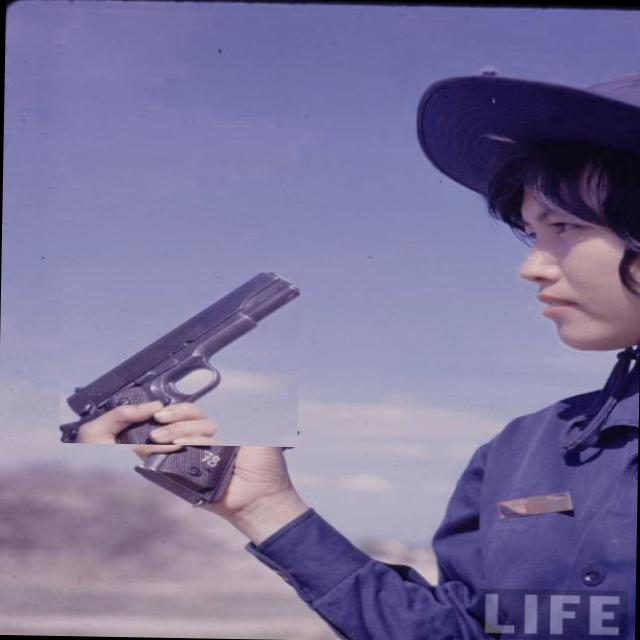Gun: (59, 273, 299, 443), (135, 423, 238, 505)
